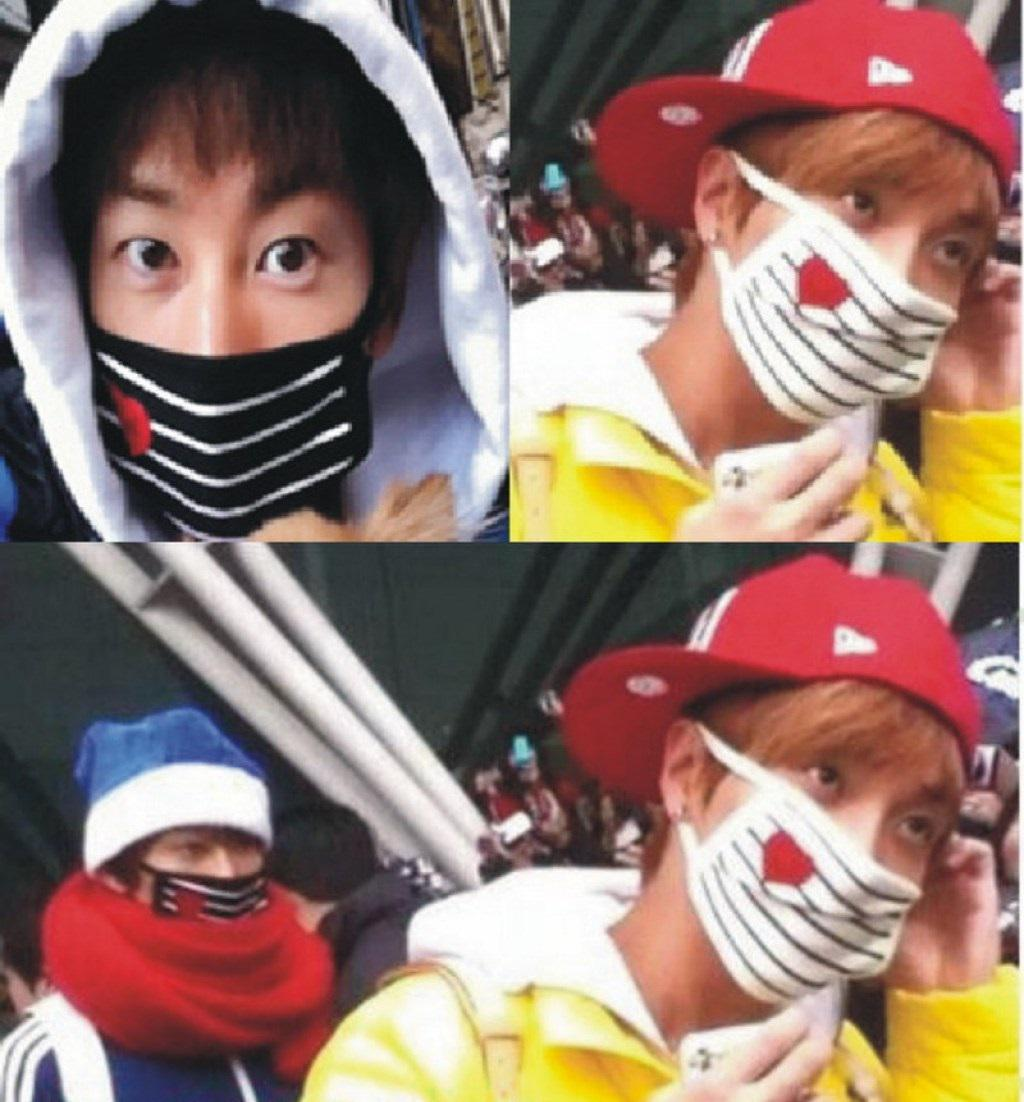WRONG: (105, 168, 384, 491), (725, 138, 1006, 419), (709, 746, 962, 994), (127, 813, 279, 965)
